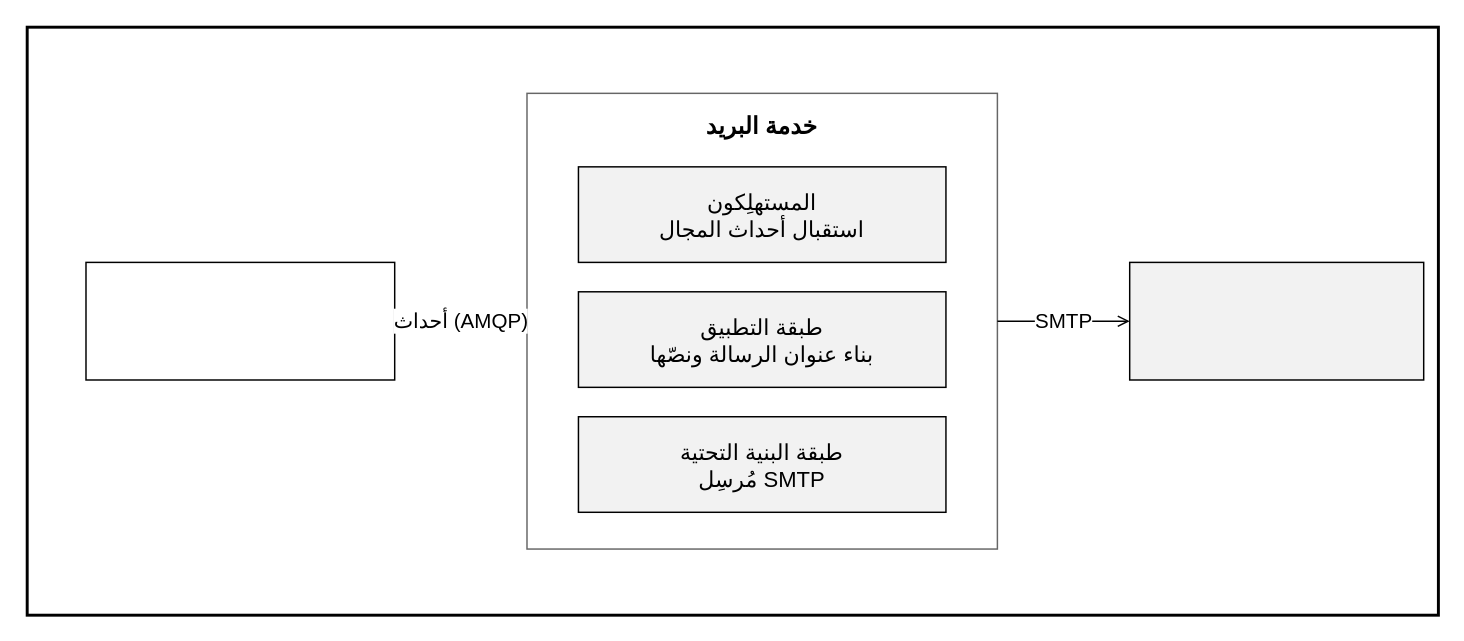
Some shapes in this 1464 by 641 pixel diagram are drawn without their labels. Here are the shapes that lost their labels. From the top down, the centre of each, then its label:
the point at 240,320: ناقل الرسائل RabbitMQ
the point at 1276,320: خادم SMTP
